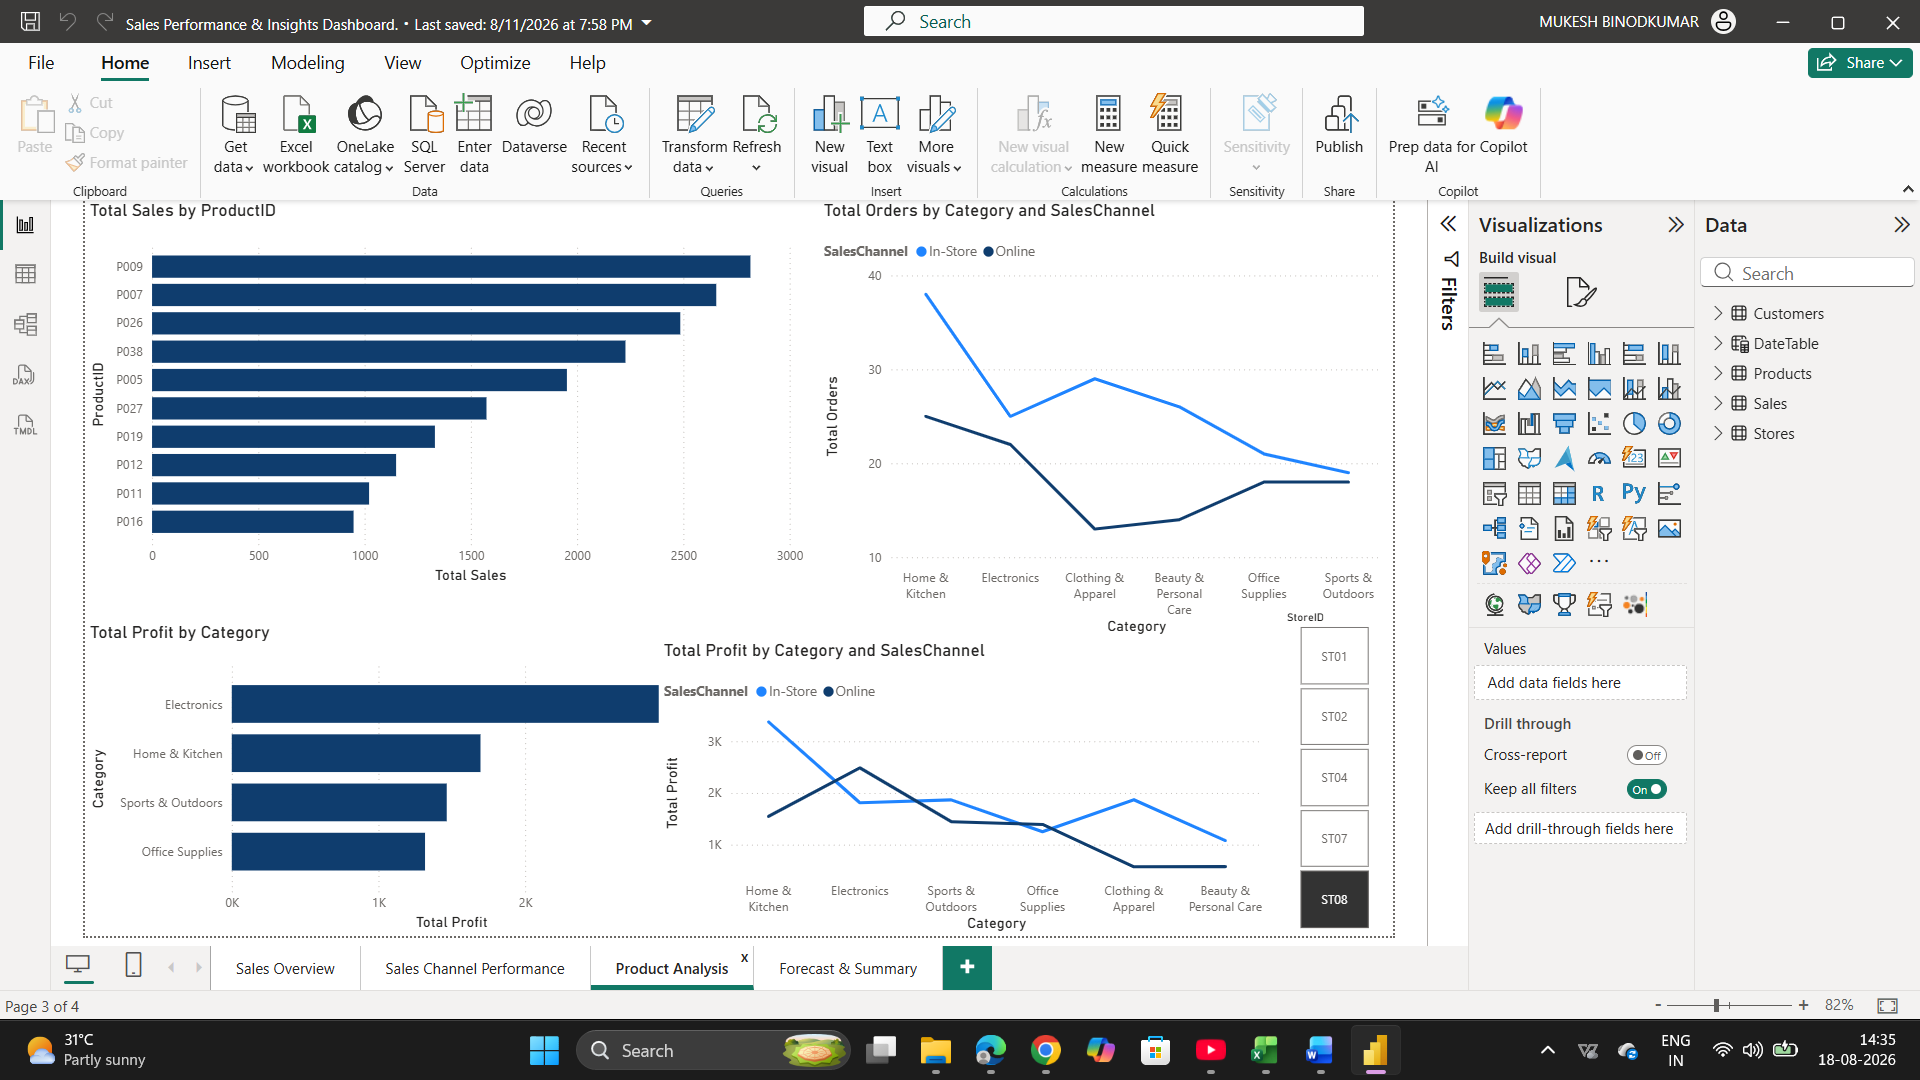

The dashboard page shown, as its layout file describes it:
{"tool":"powerbi","page":{"name":"Product Analysis","canvas":[1280,720],"ordinal":2},"visuals":[{"type":"clusteredBarChart","fields":{"Category":["Products.ProductID"],"Y":["Sales.Total Sales"]},"box":[0,0,707.5,380],"z":0},{"type":"clusteredBarChart","fields":{"Category":["Products.Category"],"Y":["Sales.Total Profit"]},"box":[0,412.5,586.2,307.5],"z":1},{"type":"lineChart","fields":{"Category":["Products.Category"],"Series":["Sales.SalesChannel"],"Y":["Sales.Total Orders"]},"box":[717.5,0,562.5,430],"z":2},{"type":"lineChart","fields":{"Category":["Products.Category"],"Series":["Sales.SalesChannel"],"Y":["Sales.Total Profit"]},"box":[561.2,430,601.2,290],"z":3},{"type":"slicer","fields":{"Values":["Sales.StoreID"]},"box":[1163.1,396.5,116.9,322.8],"z":4}]}

Visuals, with their boxes on the page's 1280x720 design canvas (x1, y1, x2, y2). These are canvas units, not pixel positions in the 1920x1080 screenshot, which may show the page scaled, cropped or inside an application window:
clusteredBarChart - Products.ProductID x Sales.Total Sales: [0, 0, 708, 380]
clusteredBarChart - Products.Category x Sales.Total Profit: [0, 412, 586, 720]
lineChart - Products.Category x Sales.SalesChannel: [718, 0, 1280, 430]
lineChart - Products.Category x Sales.SalesChannel: [561, 430, 1162, 720]
slicer - Sales.StoreID: [1163, 396, 1280, 719]
